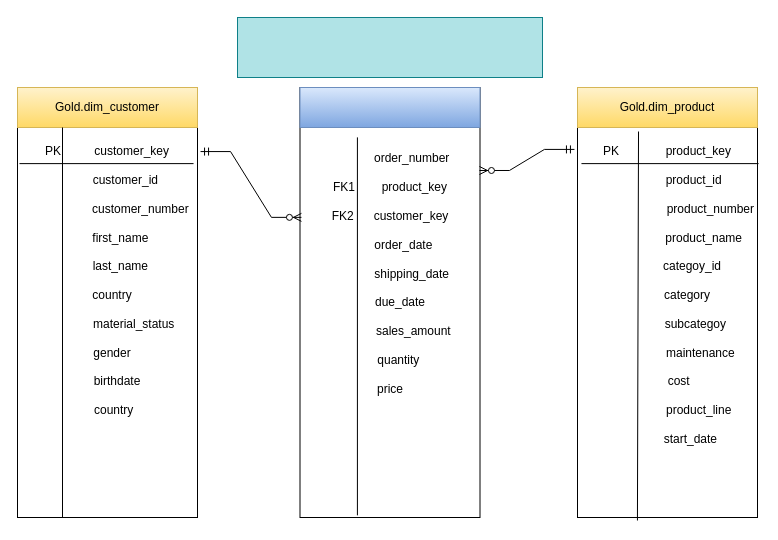
Some shapes in this 778 by 540 pixel diagram are drawn without their labels. Here are the shapes that lost their labels. From the top down, the centre of each, then its label:
At (x=389, y=47): "Sales Data Mart(Star Schema)".
At (x=389, y=107): "Gold.fact_sales".
